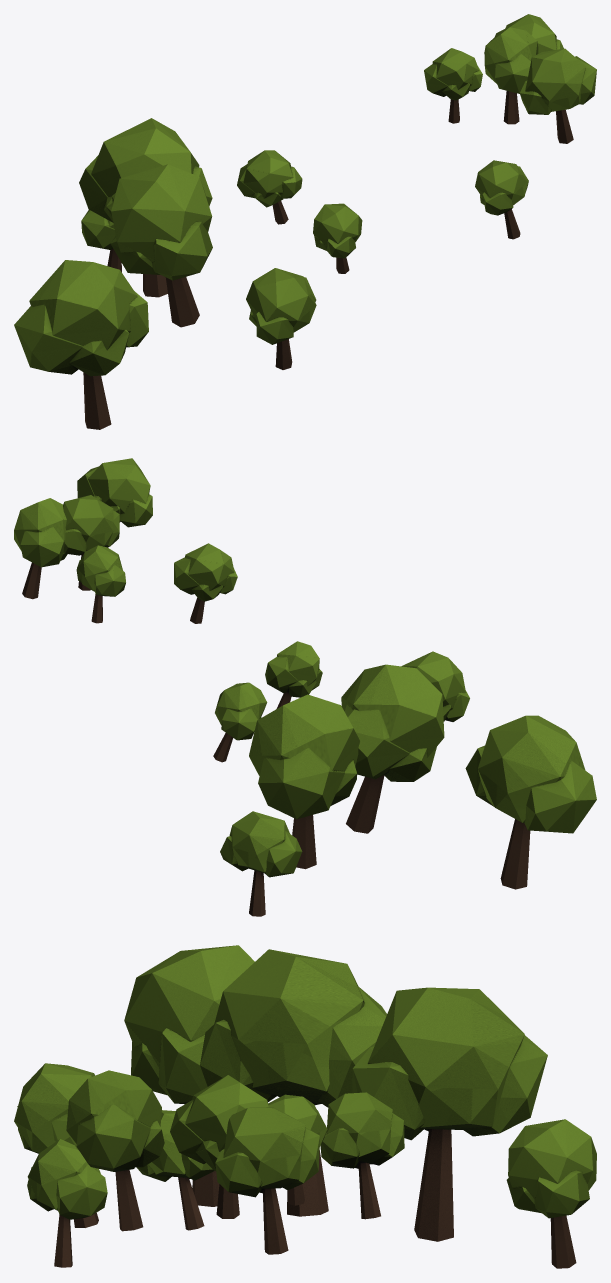
The model's file is trees_2.glb.
3 views of the same model, one above another, from view 1: azimuth 30°, elevation 25°; view 2: azimuth 150°, elevation 25°; view 3: azimuth 270°, elevation 25° (orthographic). The views are drawn at different scales.
Parts seen in each view (by area): view 1: tree_2.020, tree_2.012, tree_2.016, tree_2.014, tree_2.019, tree_2, tree_2.022, tree_2.015, tree_2.013, tree_2.018, tree_2.017, tree_2.021; view 2: tree_2.020, tree_2.016, tree_2.012, tree_2.017, tree_2.021, tree_2.019, tree_2.015, tree_2, tree_2.022, tree_2.018, tree_2.013, tree_2.014; view 3: tree_2.016, tree_2.012, tree_2.020, tree_2.019, tree_2.021, tree_2.017, tree_2.022, tree_2.015, tree_2, tree_2.014, tree_2.018, tree_2.013.
Part boxes in pixels (left/top/right/bottom): tree_2.020: left=14, top=260, right=148, bottom=429; tree_2.012: left=110, top=164, right=212, bottom=327; tree_2.016: left=79, top=118, right=212, bottom=297; tree_2.014: left=246, top=268, right=316, bottom=369; tree_2.019: left=520, top=48, right=596, bottom=143; tree_2: left=484, top=27, right=538, bottom=124; tree_2.022: left=237, top=150, right=302, bottom=224; tree_2.015: left=475, top=160, right=528, bottom=239; tree_2.013: left=424, top=48, right=482, bottom=123; tree_2.018: left=313, top=203, right=362, bottom=273; tree_2.017: left=81, top=209, right=121, bottom=272; tree_2.021: left=495, top=14, right=563, bottom=53; tree_2.020: left=465, top=715, right=596, bottom=889; tree_2.016: left=249, top=694, right=359, bottom=869; tree_2.012: left=341, top=664, right=444, bottom=833; tree_2.017: left=220, top=811, right=302, bottom=916; tree_2.021: left=14, top=498, right=67, bottom=599; tree_2.019: left=77, top=458, right=152, bottom=547; tree_2.015: left=174, top=543, right=237, bottom=623; tree_2: left=63, top=495, right=119, bottom=590; tree_2.022: left=213, top=682, right=267, bottom=762; tree_2.018: left=265, top=641, right=322, bottom=708; tree_2.013: left=76, top=545, right=125, bottom=623; tree_2.014: left=401, top=651, right=469, bottom=721; tree_2.016: left=352, top=987, right=547, bottom=1241; tree_2.012: left=200, top=949, right=386, bottom=1216; tree_2.020: left=124, top=945, right=254, bottom=1206; tree_2.019: left=66, top=1070, right=164, bottom=1231; tree_2.021: left=215, top=1107, right=319, bottom=1254; tree_2.017: left=506, top=1119, right=596, bottom=1268; tree_2.022: left=320, top=1092, right=404, bottom=1219; tree_2.015: left=27, top=1139, right=107, bottom=1267; tree_2: left=170, top=1075, right=268, bottom=1218; tree_2.014: left=14, top=1063, right=98, bottom=1227; tree_2.018: left=136, top=1110, right=214, bottom=1230; tree_2.013: left=268, top=1094, right=327, bottom=1205.
Size of the model in its own units: 1.48 by 0.7468 by 0.9211.
Materials: 2 (2 with a texture image).
